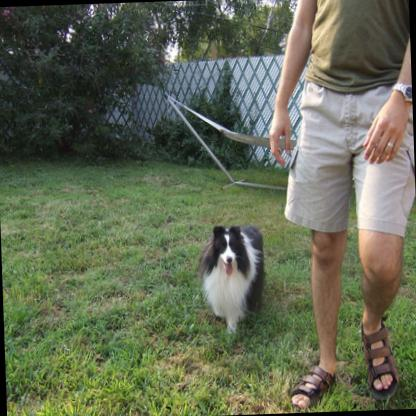Shetland_sheepdog: (190, 217, 271, 337)
